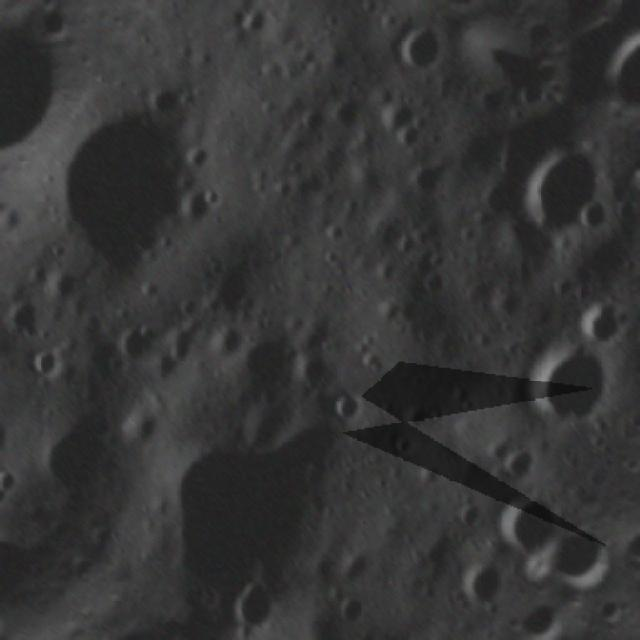crater: (112, 353, 379, 632), (19, 83, 226, 295), (492, 114, 638, 264), (12, 392, 157, 536), (503, 314, 635, 446), (479, 470, 575, 568), (276, 591, 455, 640), (230, 310, 318, 402), (443, 541, 523, 621), (198, 248, 272, 327), (567, 277, 640, 354), (214, 567, 291, 640), (386, 16, 454, 87), (105, 305, 166, 370), (138, 67, 199, 130), (0, 281, 58, 347), (395, 148, 454, 208), (111, 395, 169, 456), (284, 339, 342, 398), (168, 178, 226, 236), (569, 188, 625, 245), (37, 255, 91, 310), (496, 432, 550, 486), (370, 86, 421, 140), (323, 378, 375, 430), (20, 338, 72, 388), (288, 91, 338, 143), (466, 77, 516, 128), (207, 311, 256, 363), (443, 484, 492, 534), (387, 106, 435, 157), (122, 220, 168, 268), (324, 87, 370, 133), (414, 256, 460, 302), (333, 537, 378, 583), (178, 132, 222, 178), (539, 258, 583, 304), (230, 0, 276, 40), (366, 247, 408, 290), (441, 372, 484, 414), (331, 586, 374, 628), (382, 422, 424, 464), (316, 212, 356, 252), (386, 222, 425, 261), (42, 230, 80, 268), (390, 288, 428, 326), (169, 287, 205, 322), (19, 252, 55, 286), (374, 6, 408, 40), (420, 244, 454, 278), (0, 454, 28, 494), (0, 404, 20, 458)
